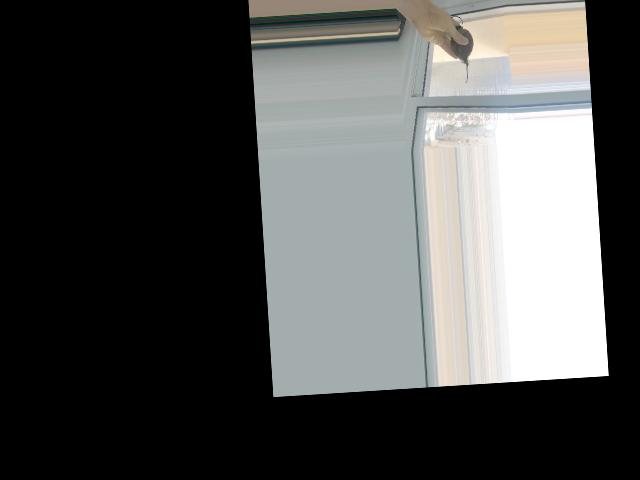beet: (442, 15, 475, 84)
